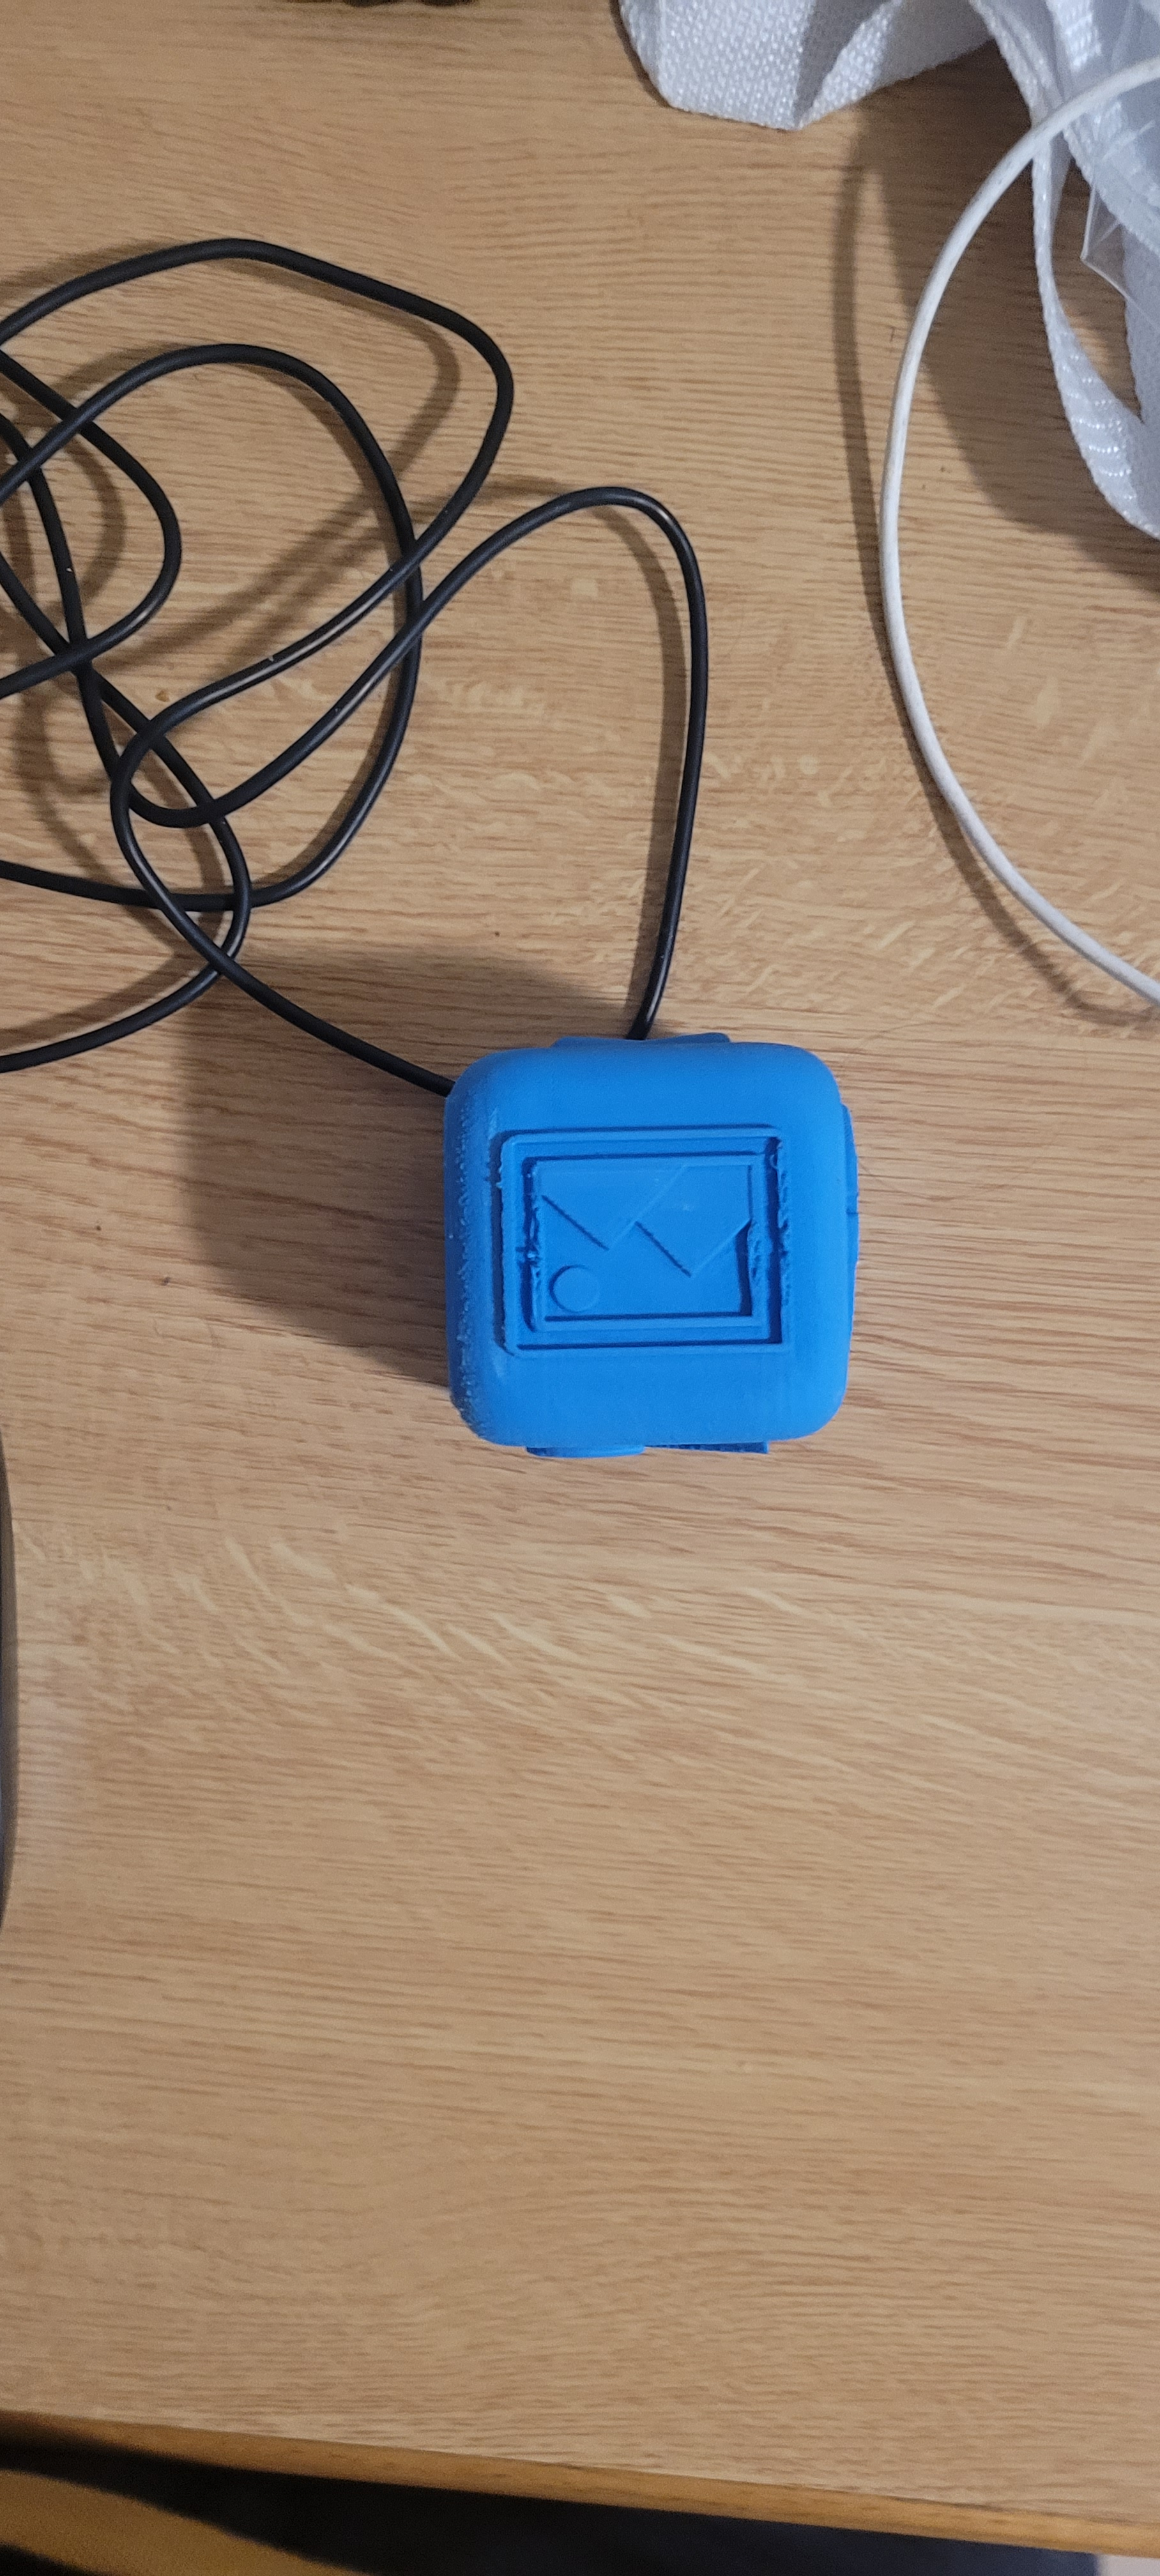Story: (440, 1066, 810, 1406)
